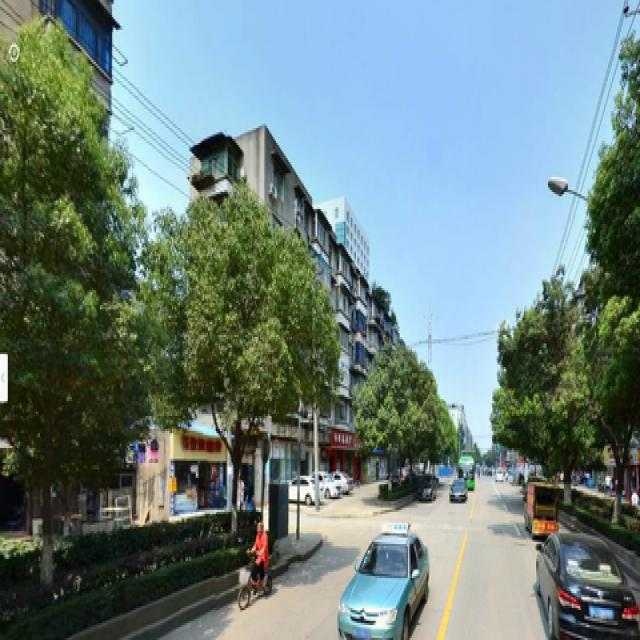cinn: (13, 41, 139, 580), (188, 201, 295, 534), (374, 344, 426, 454)
